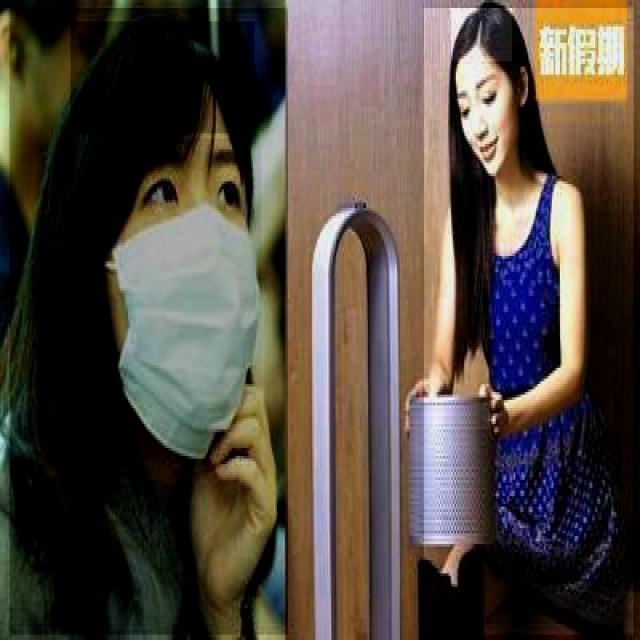face_mask: (106, 139, 260, 461)
face_nomask: (451, 64, 520, 181)
hand_noglove: (188, 373, 279, 600), (396, 370, 449, 434), (474, 372, 514, 431)
head_nohelmet: (70, 21, 256, 136), (451, 8, 514, 64)
person: (9, 8, 290, 637), (424, 8, 635, 637)
